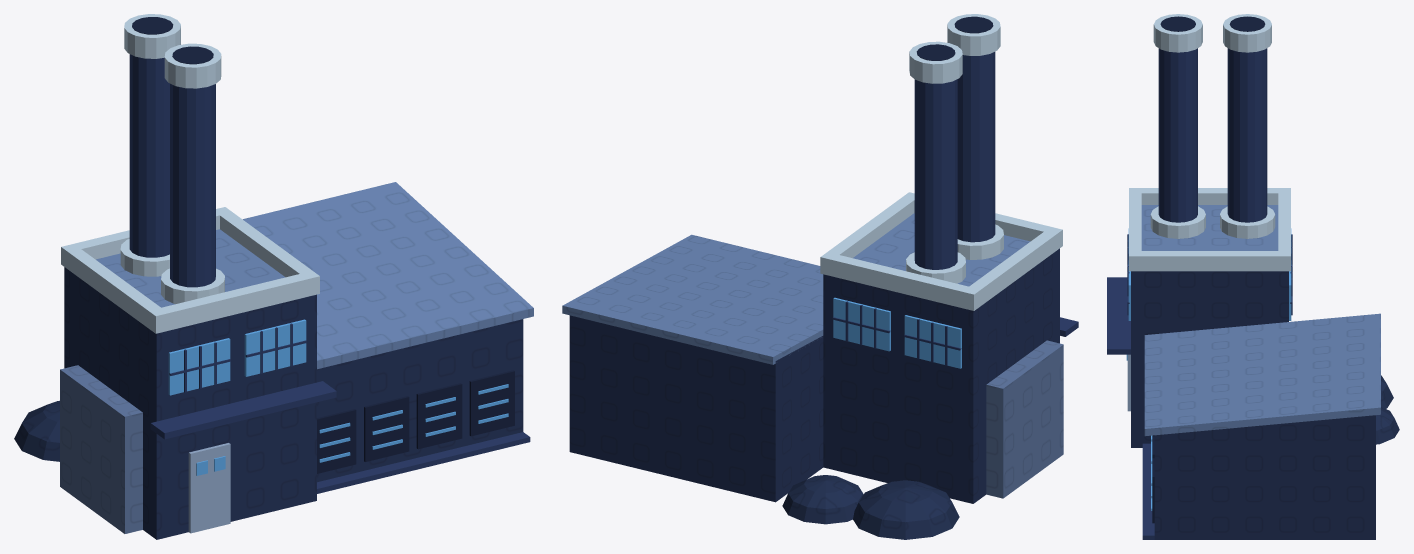
The model's file is Usine_Electrique.fbx.
The picture shows the model from 3 angles, left to right: view 1: azimuth 30°, elevation 25°; view 2: azimuth 150°, elevation 25°; view 3: azimuth 270°, elevation 25°; orthographic projection. The views are drawn at different scales.
Parts seen in each view (by area): view 1: Usine_Electrique; view 2: Usine_Electrique; view 3: Usine_Electrique.
Part boxes in pixels (bbox=[...]): Usine_Electrique: bbox=[14, 14, 533, 539]; Usine_Electrique: bbox=[562, 14, 1078, 539]; Usine_Electrique: bbox=[1107, 14, 1399, 539].
Size of what is drawn, in the model's own units: 1007 by 1071 by 740.
Materials: 9 (4 with a texture image).
